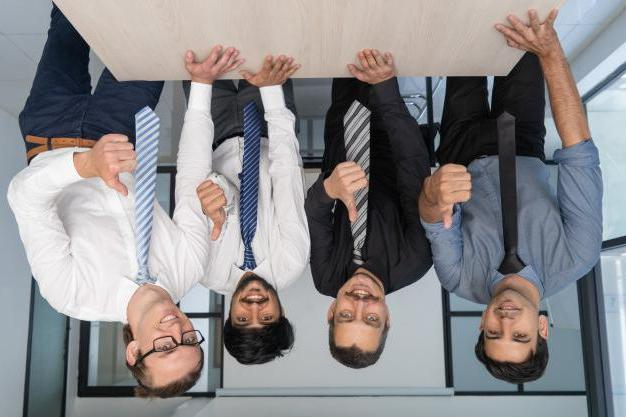thumbsdown: (101, 134, 138, 197), (438, 163, 472, 230), (336, 161, 368, 223), (196, 180, 227, 242)
